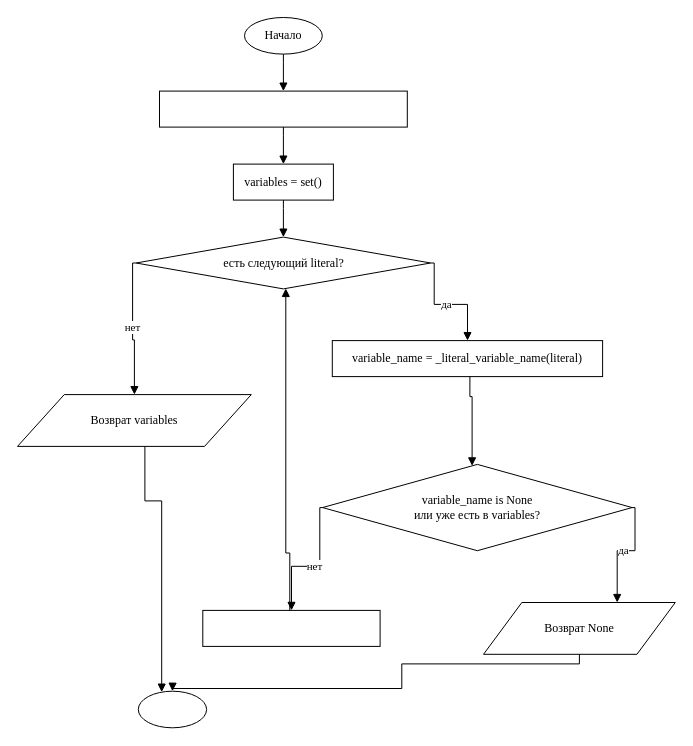
Some shapes in this 693 by 746 pixel diagram are drawn without their labels. The centre of each missing label's shape, as x and y in pixels:
literals = _collect_disjunction_terms(node): the point at 282,108
variables.add(variable_name): the point at 291,627
Конец: the point at 172,709
